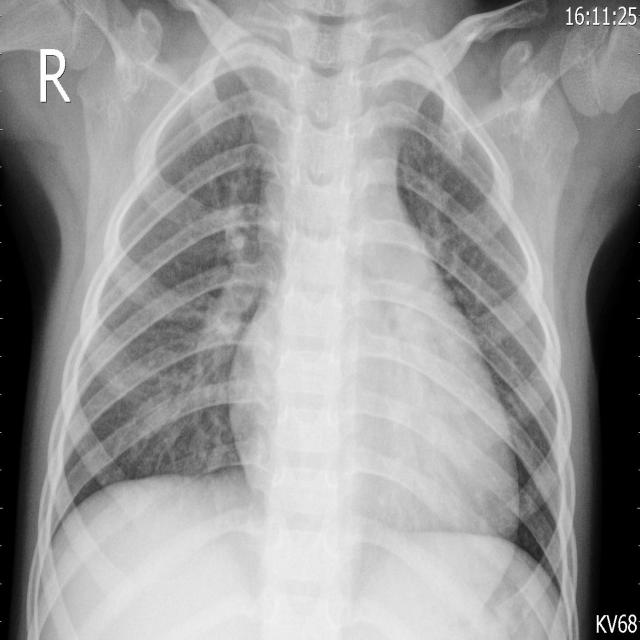high-pneumonia: (227, 41, 297, 181)
low-pneumonia: (137, 195, 277, 458), (406, 163, 496, 310)
